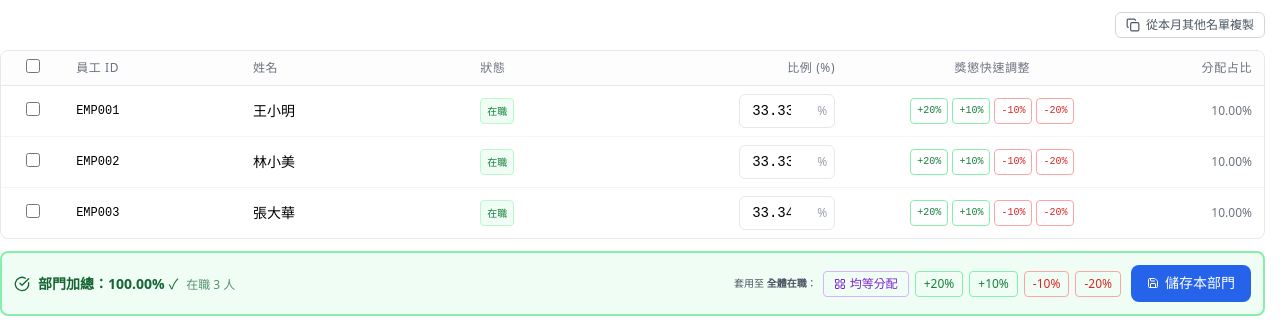
Test: PersonnelRatioForm — 不連動編輯 › 手動調到加總 = 100% → sum banner valid 且「儲存本部門」enabled
The width and height of the screenshot is (1280, 333).
Replace the text in the number field named "empl-ratio-EMP001" with "40" at (787, 111), box [739, 94, 835, 128]
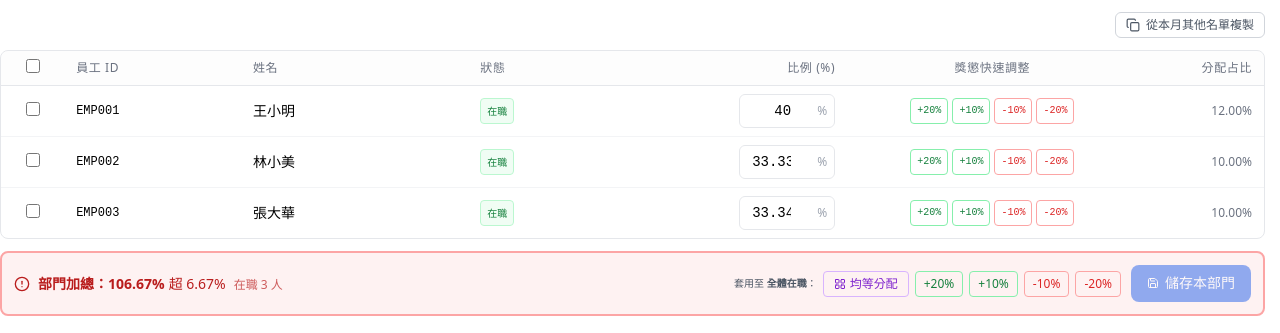
Replace the text in the number field named "empl-ratio-EMP002" with "30" at (787, 162), box [739, 145, 835, 179]
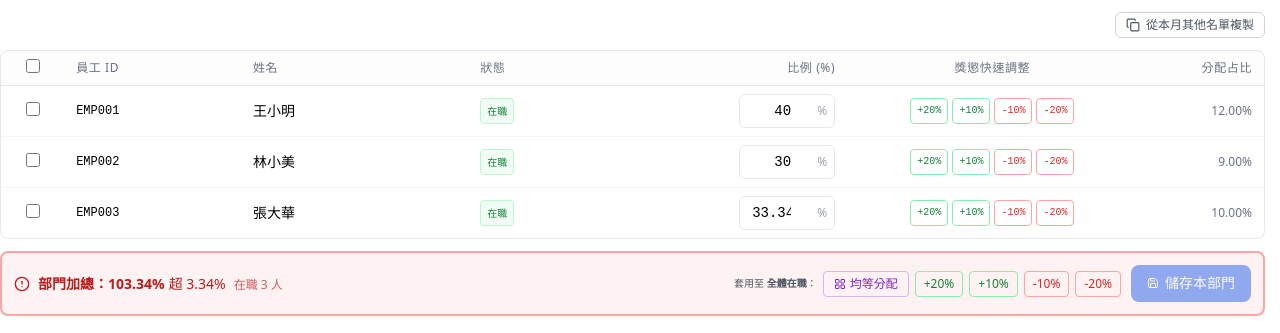
Replace the text in the number field named "empl-ratio-EMP003" with "30" at (787, 213), box [739, 196, 835, 230]
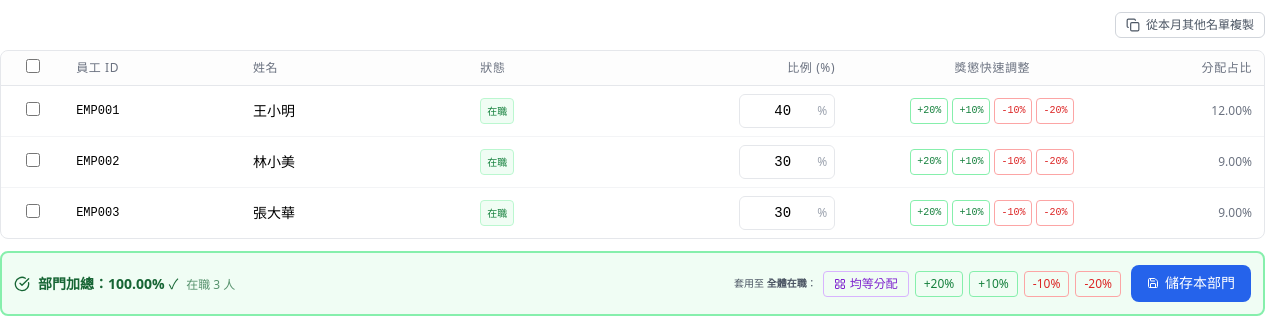
Expected: the button with test id "btn-save-dept-XTC0" is enabled, [1131, 265, 1251, 302]
